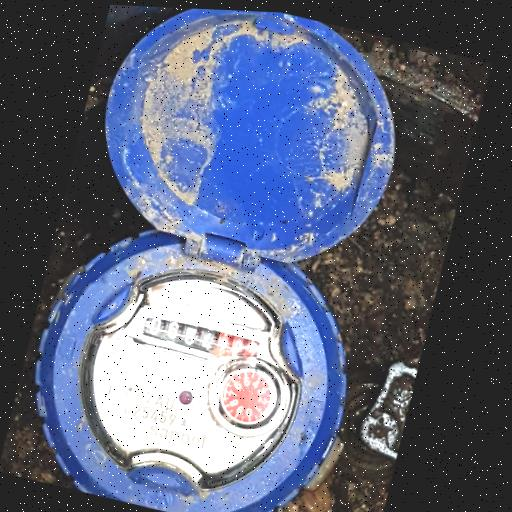0: (144, 313, 167, 339), (227, 335, 248, 361)
2: (212, 330, 234, 359)
3: (179, 322, 201, 349)
4: (195, 325, 218, 354)
6: (161, 318, 186, 344), (243, 338, 260, 360)
border_water_meter_number: (135, 304, 270, 373)
